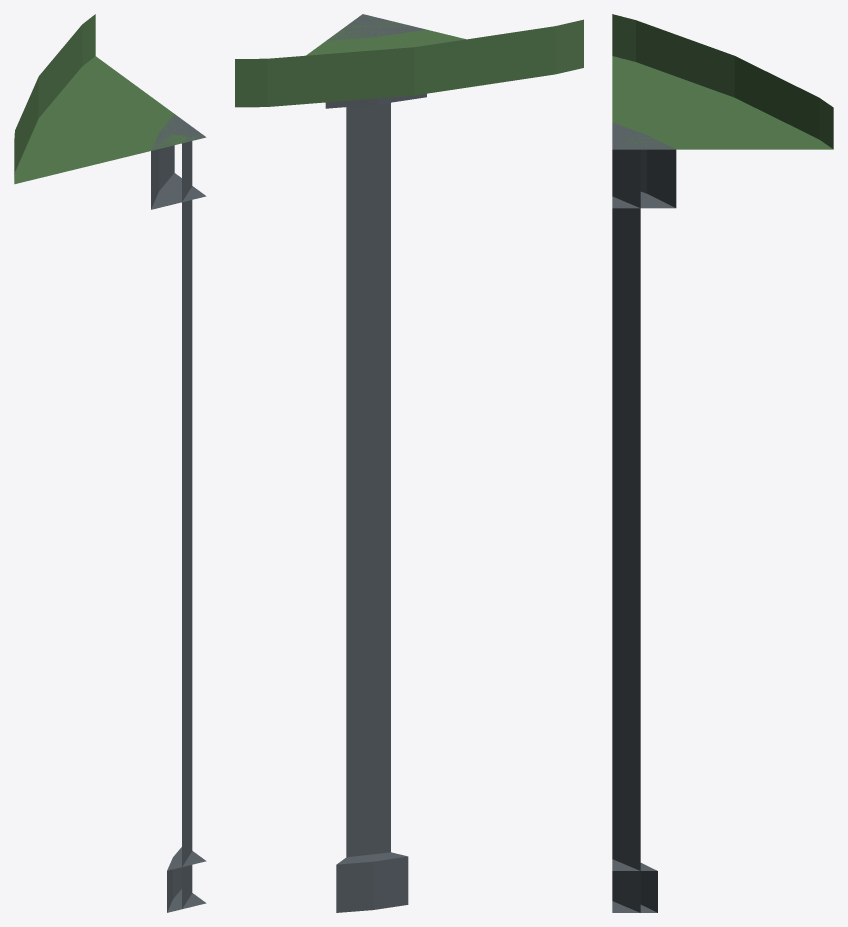
File: cell_16.obj
The picture shows the model from 3 angles, left to right: view 1: azimuth 30°, elevation 25°; view 2: azimuth 150°, elevation 25°; view 3: azimuth 270°, elevation 25°; orthographic projection. The views are drawn at different scales.
Size of the model in its own units: 0.2393 by 0.96 by 0.2393.
